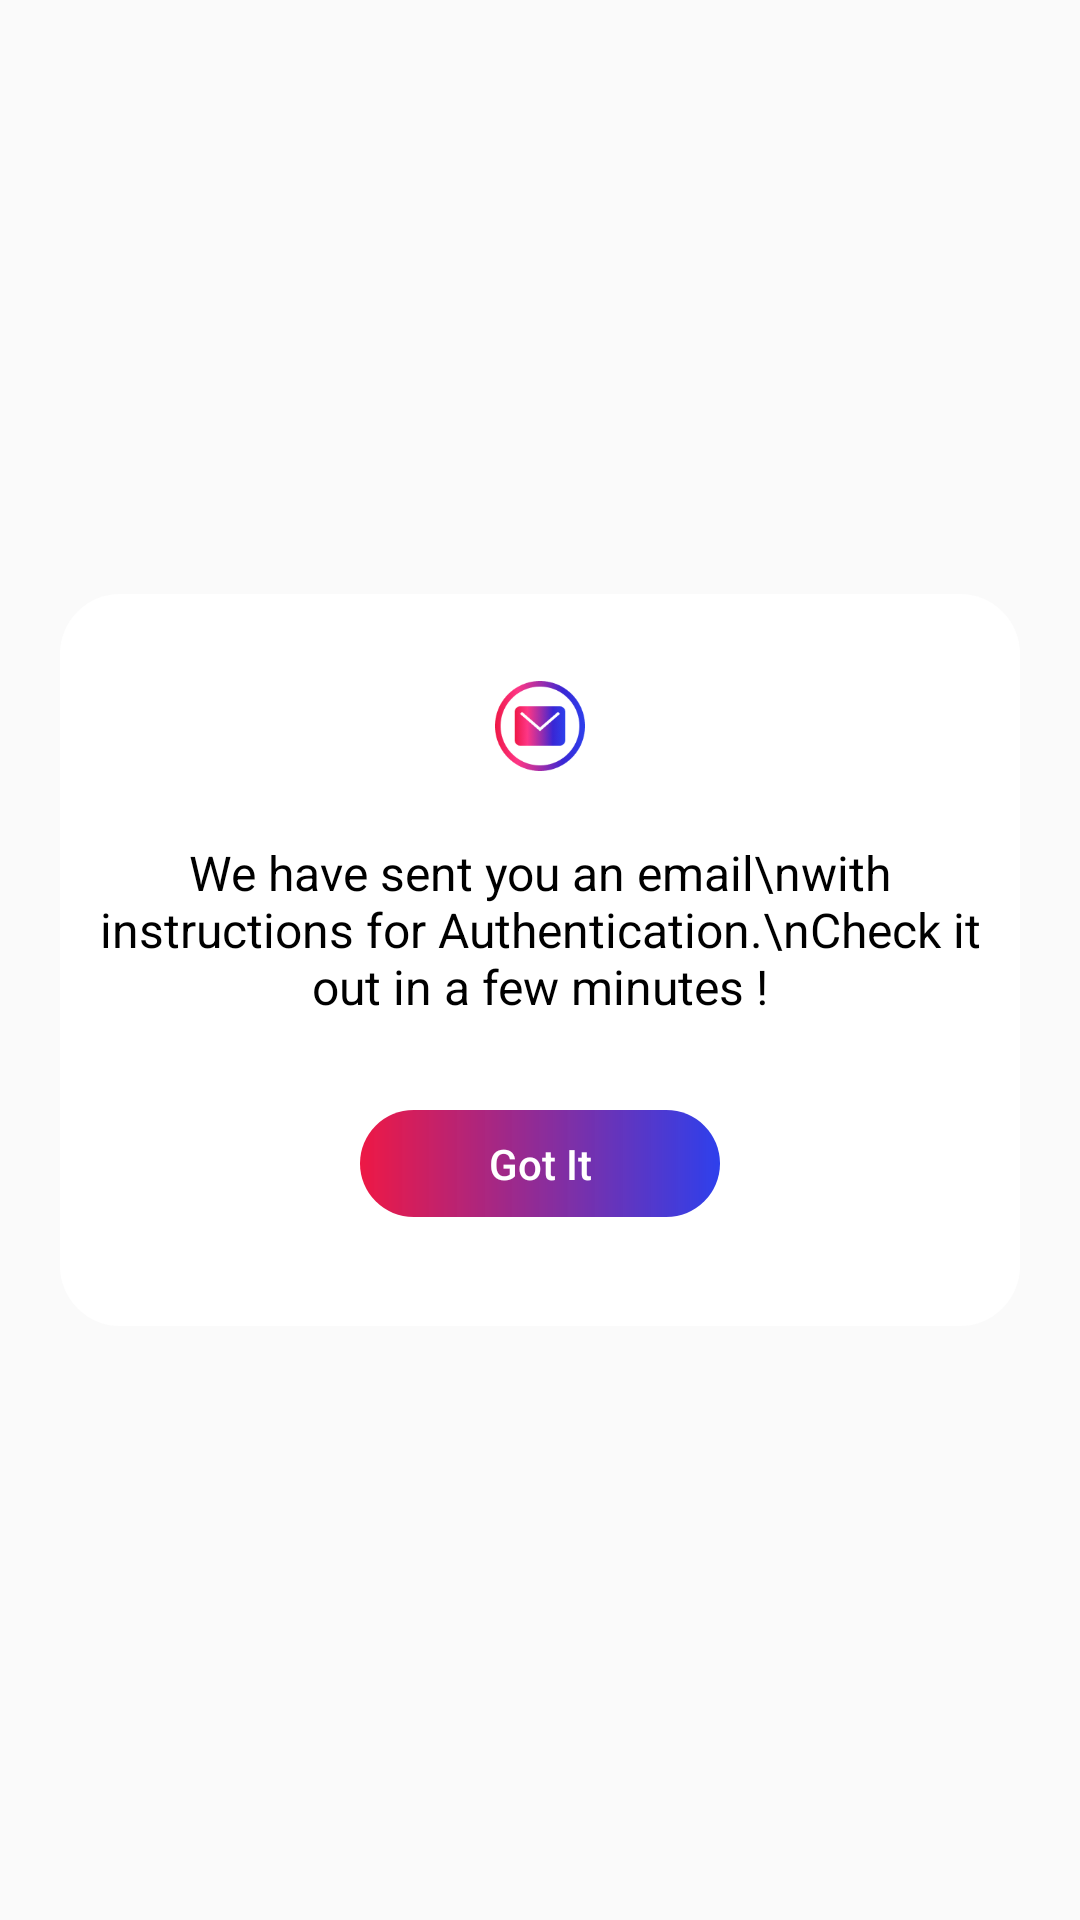

Point at icon controls on the screen. Image size 1080x1920, points as point (x, y).
send email: point (540, 726)
